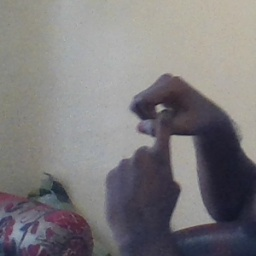Q: (102, 73, 203, 215)
